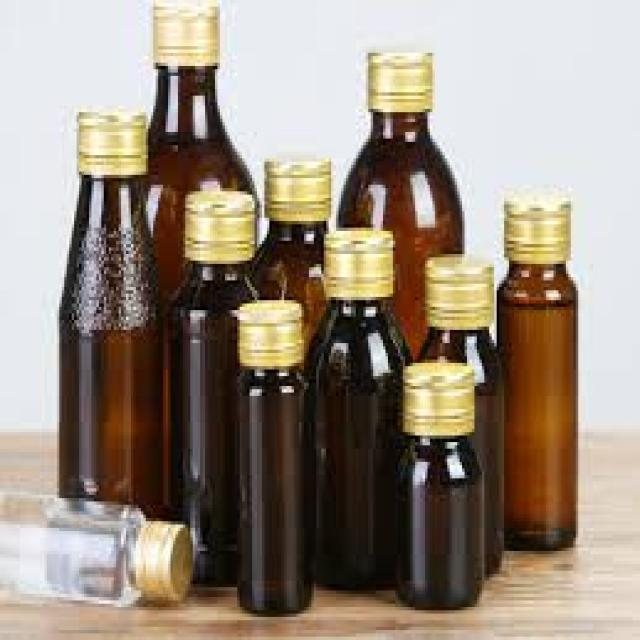glass: (60, 175, 171, 511), (336, 109, 460, 363), (166, 261, 260, 587), (304, 297, 410, 584), (146, 66, 262, 313), (497, 261, 576, 544), (415, 327, 499, 577), (232, 363, 309, 610), (0, 491, 138, 607), (393, 436, 482, 604), (247, 218, 331, 360)
metal: (181, 185, 255, 254), (398, 359, 469, 429), (134, 515, 191, 601), (423, 251, 492, 320), (322, 228, 391, 297), (499, 195, 568, 261), (262, 152, 331, 218), (74, 106, 146, 168), (366, 43, 430, 109), (151, 0, 217, 63)
